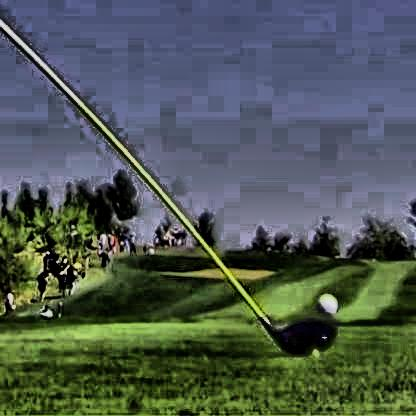golfball: (315, 291, 336, 313)
